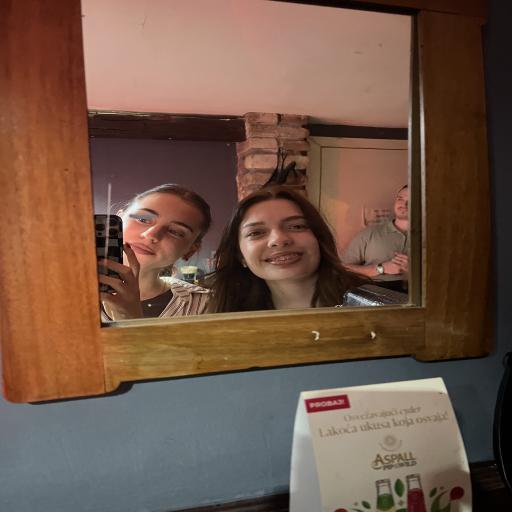masa: (125, 193, 191, 270)
